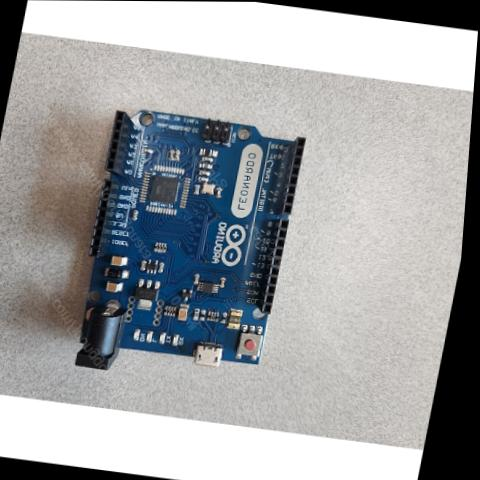Arduino-Leonardo: (66, 105, 314, 395)
